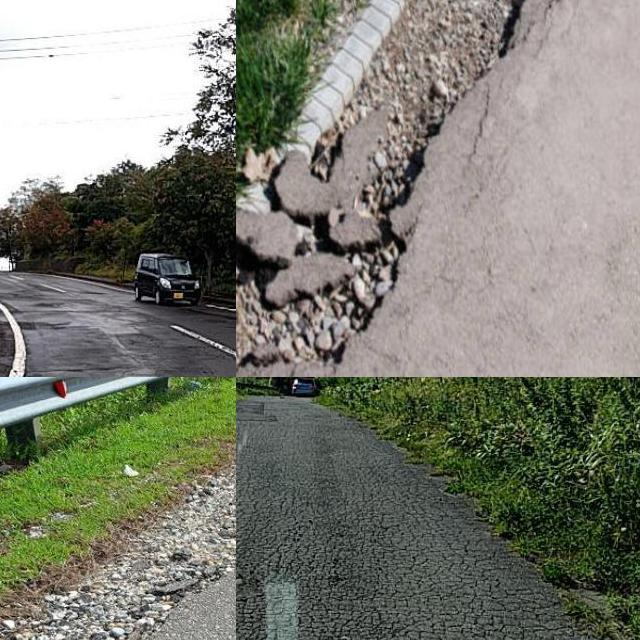Pinggir: (236, 0, 604, 377), (0, 458, 236, 640)
Retak Buaya: (236, 458, 598, 640)
